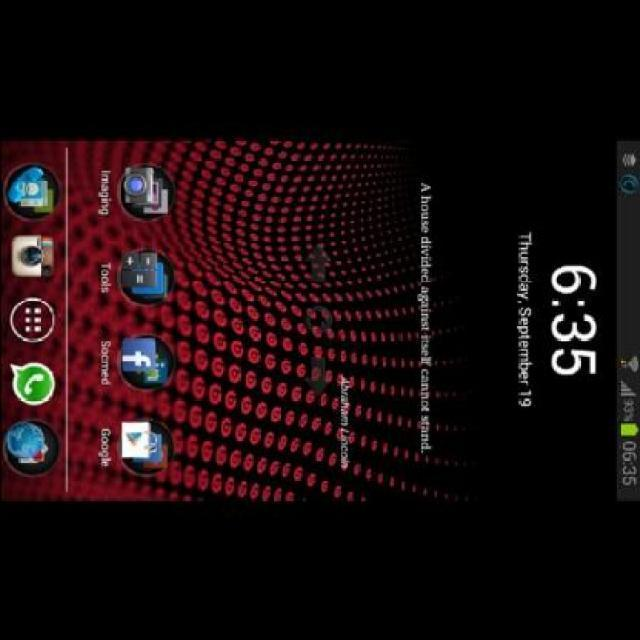phone: (1, 120, 589, 536)
